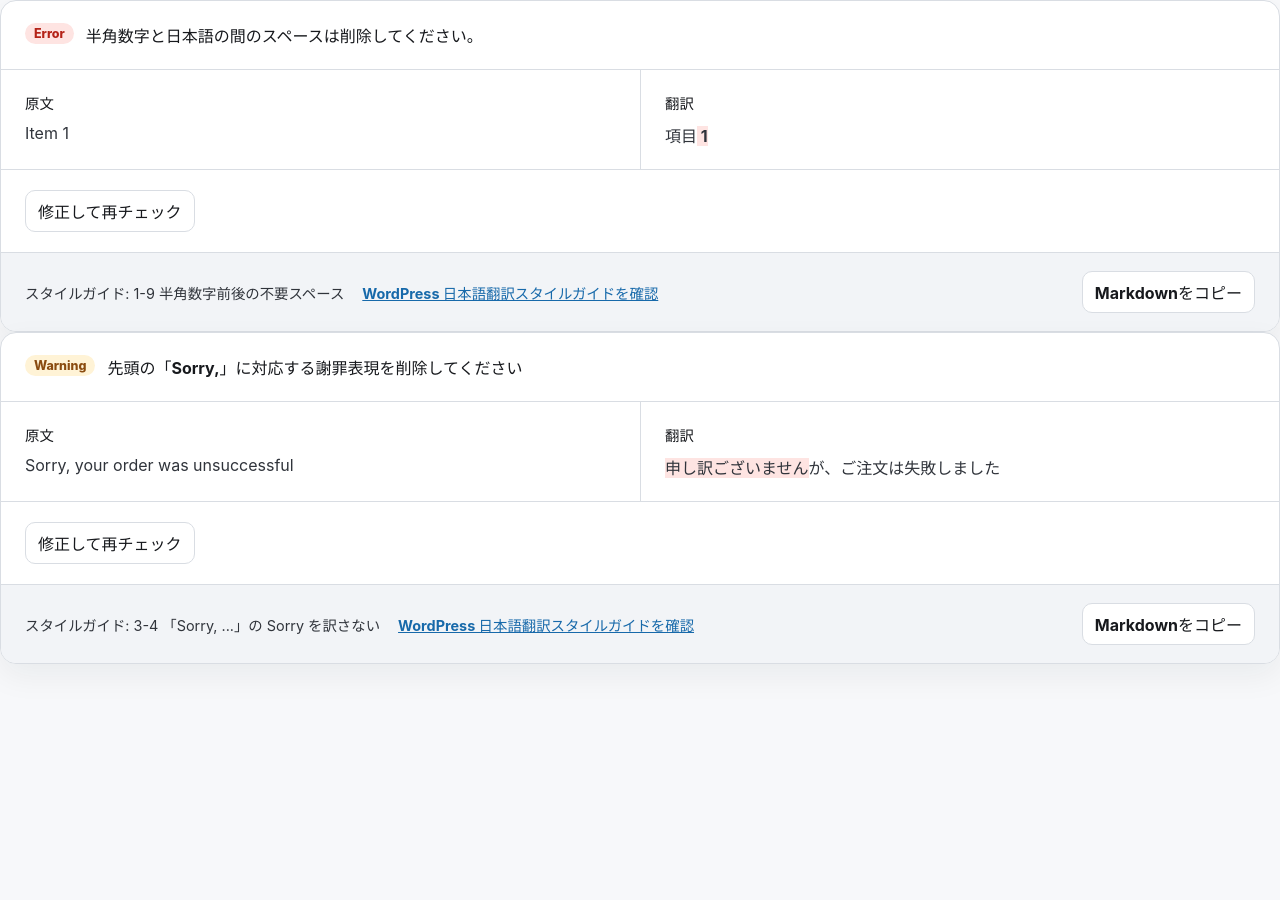
Scenario: FindingCard Markdown copy action › when one of multiple findings is copied, should keep copy content and feedback scoped to that card
Click the button "Markdownをコピー" in the row of "スタイルガイド: 3-4 「Sorry, ...」の Sorry を訳さない" at (1168, 624), box [1082, 603, 1255, 645]
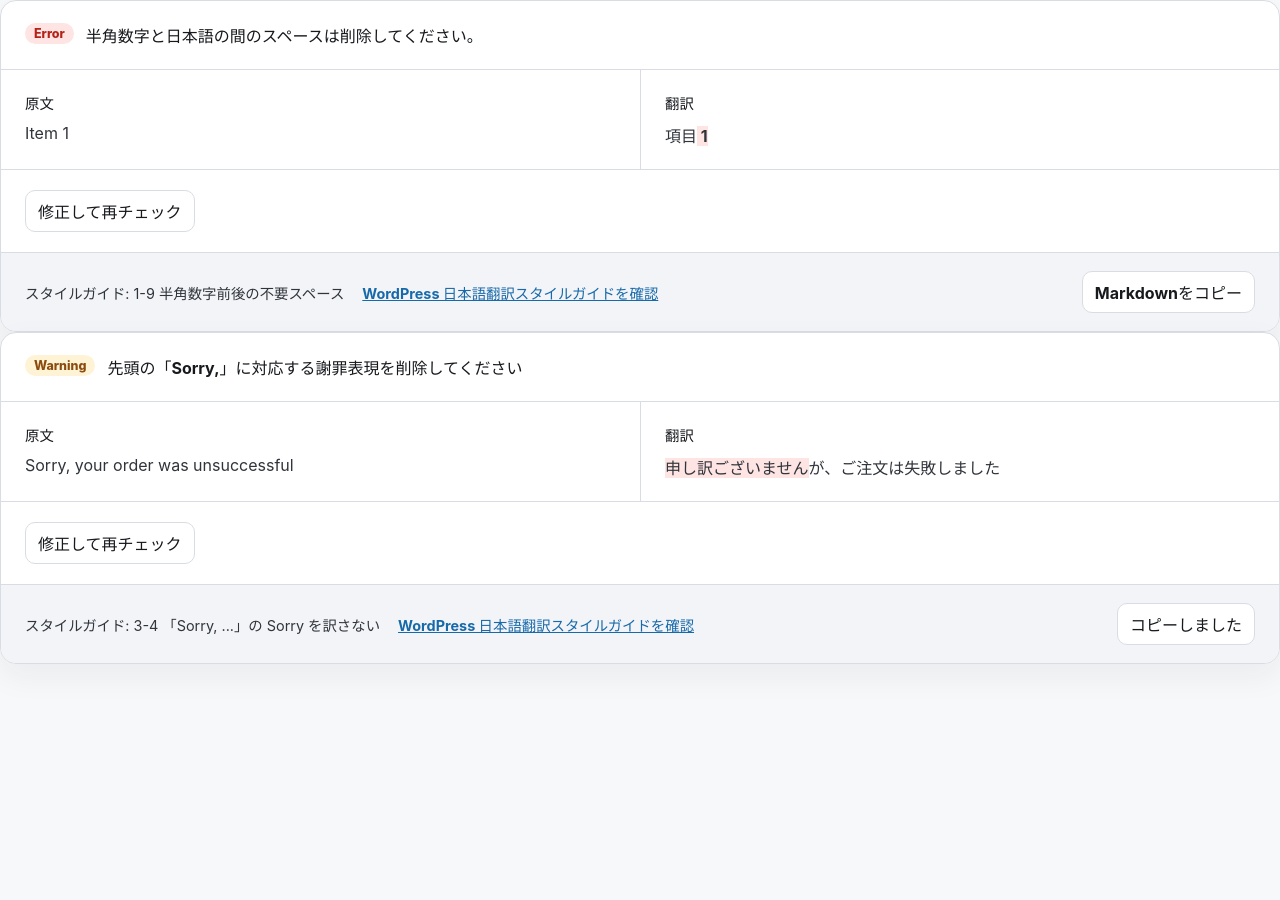
Check: the button "Markdownをコピー" is shown, box [1082, 271, 1255, 313]
Check: the button "コピーしました" is shown, box [1117, 603, 1255, 645]
